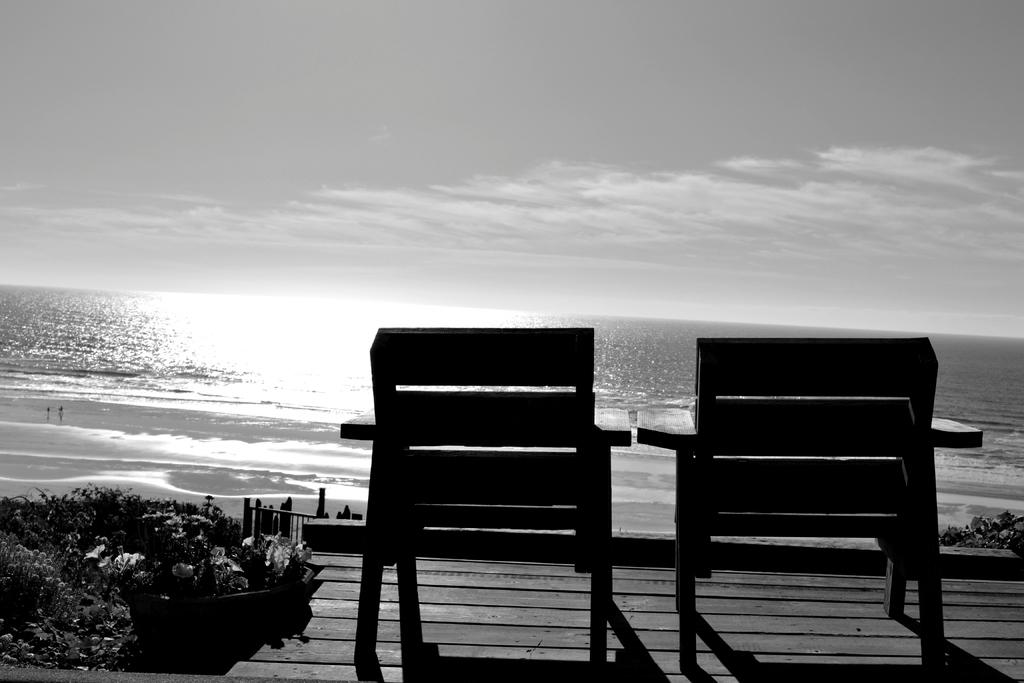Chair: (636, 336, 984, 672), (328, 311, 644, 675)
